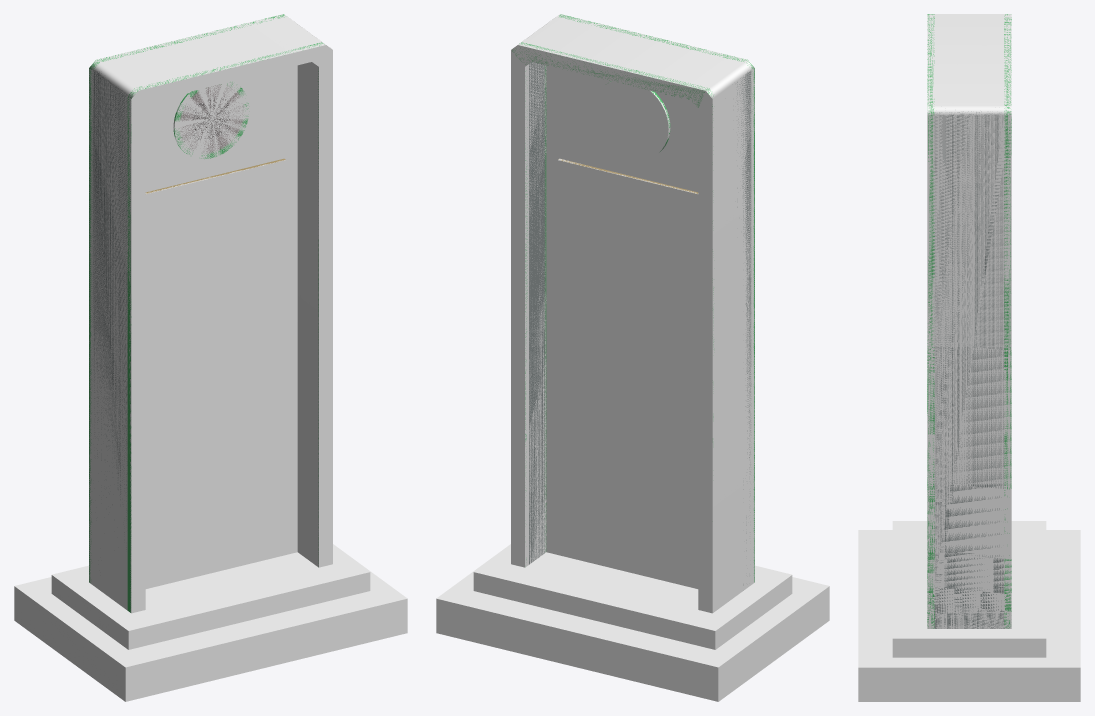
The model's file is objects_un_facilityboard01.gltf.
The picture shows the model from 3 angles, left to right: view 1: azimuth 30°, elevation 25°; view 2: azimuth 150°, elevation 25°; view 3: azimuth 270°, elevation 25°; orthographic projection.
Parts seen in each view (by area): view 1: nomerge_shadow_model_shape:objects_un_facilityboard01_shadow, nomerge_frame2_shape:objects_un_facilityboard01_01, nomerge_plate_02_low_shape:objects_un_facilityboard01_01; view 2: nomerge_shadow_model_shape:objects_un_facilityboard01_shadow, nomerge_frame2_shape:objects_un_facilityboard01_01; view 3: nomerge_shadow_model_shape:objects_un_facilityboard01_shadow, nomerge_frame2_shape:objects_un_facilityboard01_01.
Part boxes in pixels (x1,y1,x2,y2): nomerge_shadow_model_shape:objects_un_facilityboard01_shadow: (14, 14, 407, 701); nomerge_frame2_shape:objects_un_facilityboard01_01: (89, 14, 324, 612); nomerge_plate_02_low_shape:objects_un_facilityboard01_01: (173, 82, 248, 158); nomerge_shadow_model_shape:objects_un_facilityboard01_shadow: (436, 14, 829, 701); nomerge_frame2_shape:objects_un_facilityboard01_01: (512, 14, 754, 585); nomerge_shadow_model_shape:objects_un_facilityboard01_shadow: (858, 14, 1080, 701); nomerge_frame2_shape:objects_un_facilityboard01_01: (927, 14, 1011, 628).
Size of what is drawn, in the model's own units: 0.8288 by 1.61 by 0.5659.
3 materials, 2 textured.
